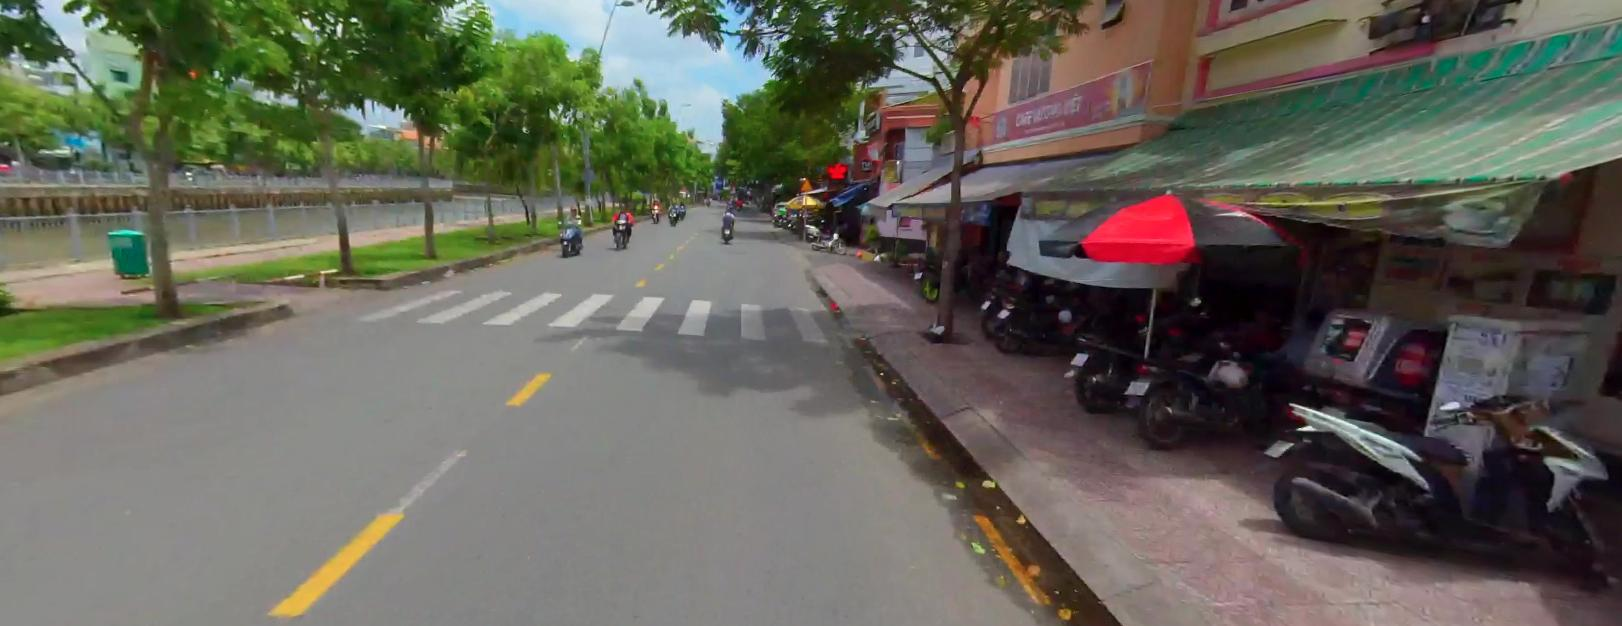Nguy hiem: (800, 177, 813, 190)
